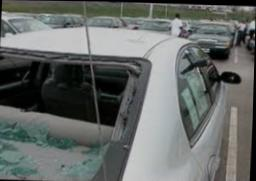Windshield: (0, 47, 153, 181)
